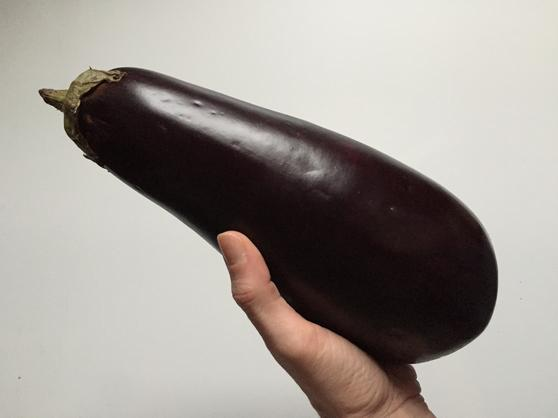eggplant: (35, 62, 527, 369)
